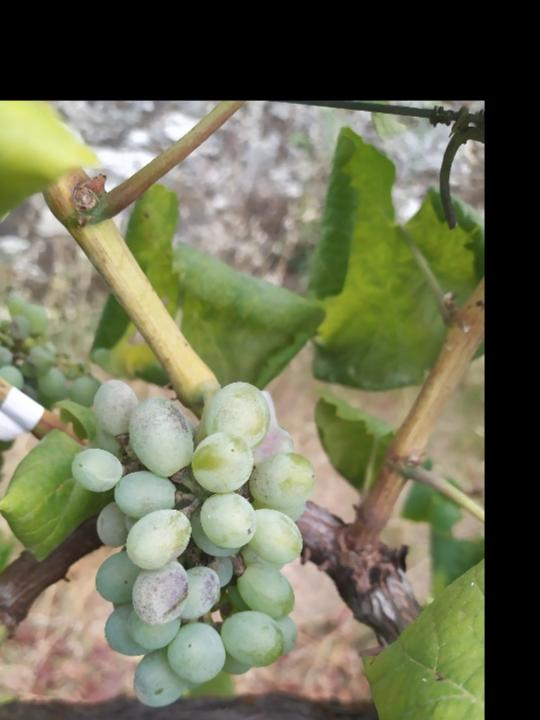grape: (69, 376, 318, 710)
